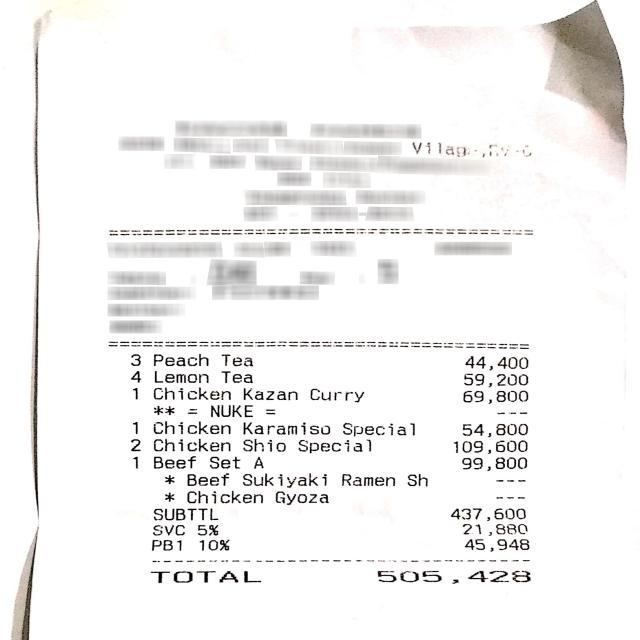kertas: (28, 0, 634, 640)
